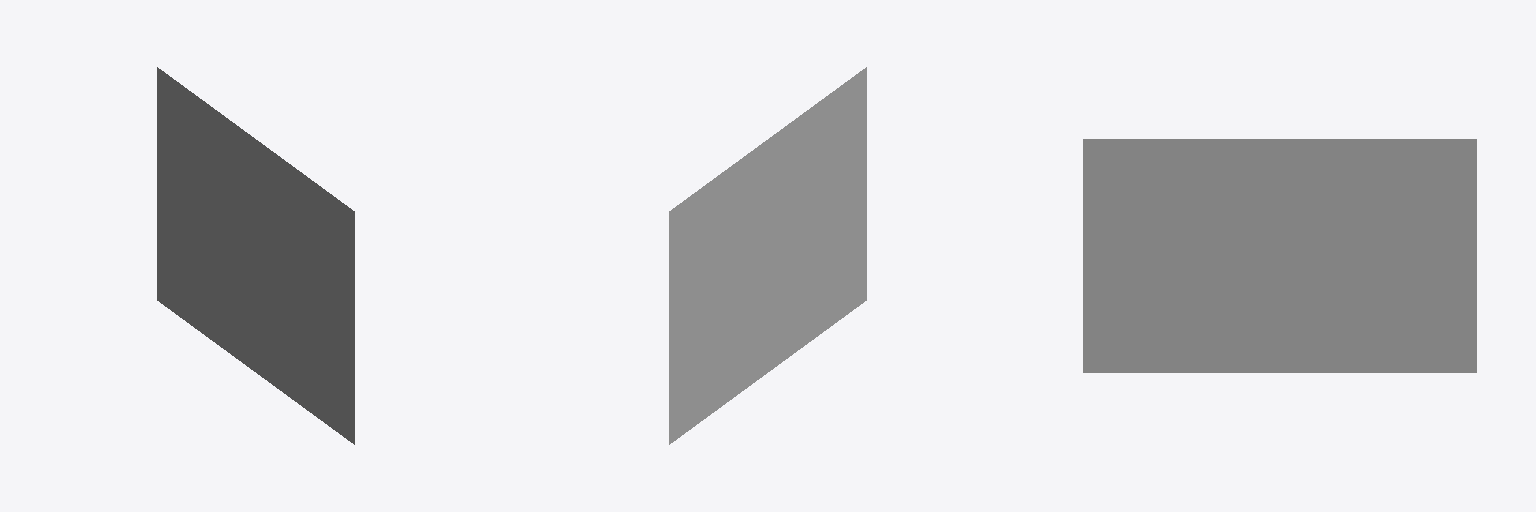
The model's file is FrontWall.obj.
The picture shows the model from 3 angles: view 1: azimuth 30°, elevation 25°; view 2: azimuth 150°, elevation 25°; view 3: azimuth 270°, elevation 25°; orthographic projection.
Visible parts, largest first — view 1: Front_Cube.007; view 2: Front_Cube.007; view 3: Front_Cube.007.
Boxes of the visible parts, box(x1,y1,x2,y2) form: Front_Cube.007: box(157, 67, 354, 444); Front_Cube.007: box(669, 67, 866, 444); Front_Cube.007: box(1083, 139, 1476, 372).
Bounding box in the file's own units: 0 × 115 × 175.